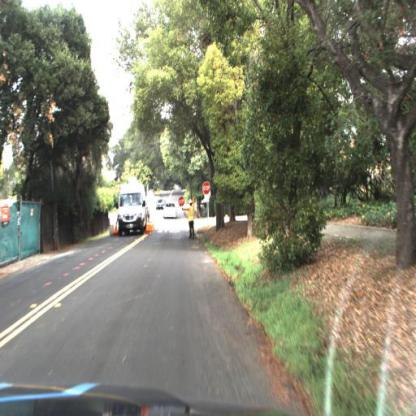car: (119, 176, 154, 239), (164, 200, 178, 220), (155, 195, 165, 214)
pedestrian: (179, 196, 198, 240)
